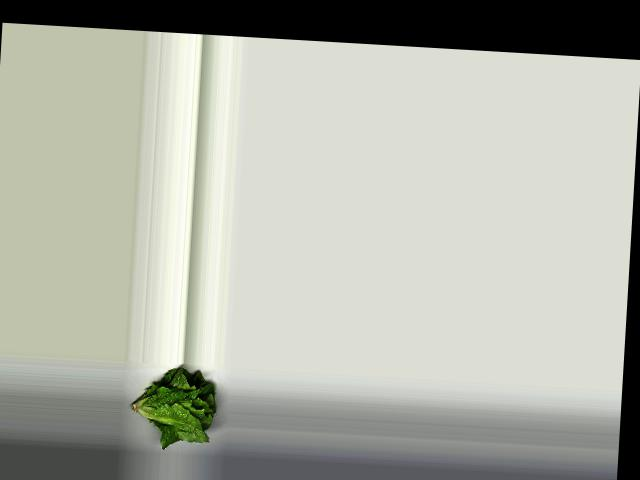lettuce: (125, 365, 223, 444)
